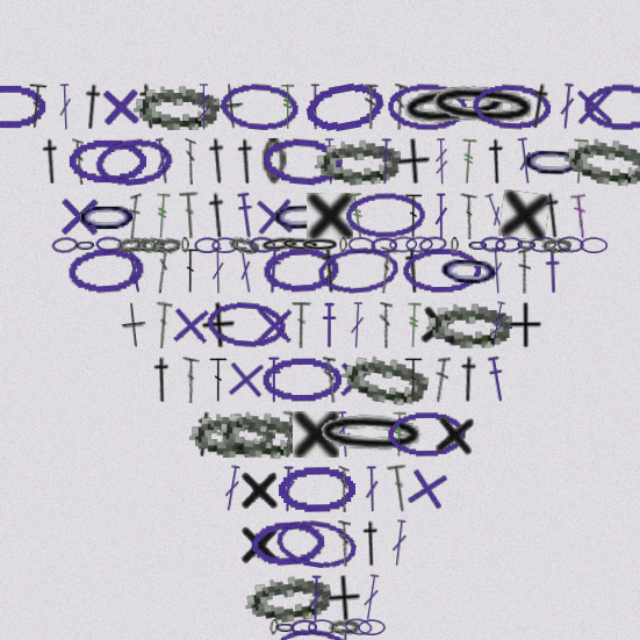chain: (376, 118, 479, 167), (401, 119, 503, 166), (305, 403, 406, 447), (328, 352, 407, 403), (245, 541, 323, 591), (295, 117, 369, 168), (271, 494, 345, 544), (270, 588, 345, 637), (521, 166, 598, 213), (222, 402, 298, 447), (306, 168, 382, 212), (308, 261, 380, 307), (116, 167, 187, 213), (260, 167, 332, 212), (212, 308, 283, 353), (224, 120, 295, 165), (441, 121, 511, 165), (93, 262, 162, 306), (403, 310, 477, 351), (250, 497, 318, 541), (261, 262, 330, 305), (199, 405, 273, 445), (151, 123, 225, 163), (333, 216, 403, 257), (369, 122, 439, 163), (274, 451, 342, 492), (538, 122, 606, 163), (369, 405, 438, 445), (261, 358, 330, 398), (382, 264, 450, 304), (94, 170, 162, 210), (11, 123, 77, 163), (411, 262, 469, 305), (267, 216, 324, 257), (483, 169, 540, 210), (100, 217, 156, 257), (261, 170, 283, 210), (259, 253, 295, 270), (277, 254, 312, 270), (232, 253, 260, 271), (294, 255, 329, 269), (136, 253, 163, 270), (165, 254, 192, 270), (332, 582, 357, 599), (396, 253, 421, 270), (335, 254, 360, 270), (319, 583, 345, 598), (152, 254, 178, 269), (80, 254, 104, 270), (491, 254, 516, 269), (502, 255, 528, 269), (118, 254, 142, 269), (371, 254, 395, 269), (385, 254, 409, 269), (462, 254, 486, 269), (515, 254, 539, 269), (250, 254, 273, 269), (449, 254, 472, 269), (301, 584, 325, 598), (344, 584, 368, 598), (535, 255, 559, 269), (286, 584, 309, 598), (203, 255, 226, 269), (218, 255, 241, 269), (355, 255, 378, 269), (329, 629, 356, 640), (480, 254, 499, 269), (282, 630, 309, 640), (272, 584, 291, 598), (100, 255, 119, 269), (438, 255, 457, 269), (296, 630, 319, 640), (316, 630, 336, 640), (268, 584, 276, 598), (192, 255, 199, 269), (328, 255, 335, 269), (424, 255, 431, 269)
double: (451, 216, 476, 258), (369, 451, 391, 492), (141, 263, 162, 304), (274, 404, 294, 445), (358, 263, 378, 304), (346, 545, 365, 586), (226, 451, 245, 492), (166, 310, 185, 351), (238, 263, 257, 304), (190, 216, 209, 257), (58, 122, 77, 163), (167, 169, 185, 210), (479, 169, 497, 210), (371, 498, 388, 539), (527, 216, 544, 257), (287, 311, 304, 351), (408, 357, 424, 398), (168, 263, 184, 304), (516, 122, 532, 163), (192, 358, 208, 398), (216, 358, 232, 398), (384, 358, 400, 398), (192, 264, 208, 304), (384, 217, 400, 257), (336, 311, 351, 351), (456, 264, 471, 304), (432, 217, 447, 257), (372, 123, 387, 163), (301, 546, 315, 586), (277, 452, 291, 492), (349, 452, 363, 492), (313, 170, 327, 210), (85, 123, 99, 163), (361, 311, 374, 351), (217, 264, 230, 304), (145, 217, 158, 257), (409, 217, 422, 257), (301, 123, 314, 163), (349, 123, 362, 163), (326, 499, 338, 539), (314, 358, 326, 398), (98, 170, 110, 210), (482, 264, 493, 304), (327, 452, 337, 492), (195, 170, 205, 210)
half_double: (485, 121, 515, 164), (198, 404, 226, 446), (102, 122, 129, 164), (499, 216, 525, 257), (151, 122, 177, 163), (427, 357, 452, 398), (211, 216, 236, 257), (211, 169, 236, 210), (308, 263, 332, 304), (380, 264, 404, 304), (68, 170, 92, 210), (236, 170, 260, 210), (344, 499, 367, 539), (164, 358, 187, 398), (452, 170, 475, 210), (453, 357, 474, 398), (237, 216, 258, 257), (323, 592, 341, 633), (263, 264, 280, 304), (504, 264, 520, 304), (360, 170, 376, 210), (264, 358, 279, 398), (312, 311, 327, 351)
noise: (5, 320, 29, 344), (0, 144, 24, 157), (0, 135, 14, 151), (0, 561, 22, 571)
single: (380, 448, 427, 495), (465, 214, 510, 259), (226, 356, 269, 399), (179, 310, 221, 352), (251, 216, 293, 258), (395, 309, 436, 352), (408, 403, 448, 446), (323, 357, 364, 398), (119, 122, 160, 163), (527, 122, 568, 163), (288, 405, 328, 445), (252, 311, 292, 351), (84, 217, 124, 257), (300, 217, 340, 257), (241, 499, 278, 539), (241, 452, 278, 492), (315, 545, 348, 587), (207, 310, 240, 352), (375, 169, 408, 211), (472, 311, 503, 351), (139, 310, 164, 352), (223, 122, 248, 163)
treble: (454, 310, 474, 351), (334, 216, 354, 257), (431, 170, 448, 210), (527, 170, 544, 210), (324, 405, 340, 445), (168, 217, 183, 257), (385, 311, 399, 351), (409, 170, 423, 210), (589, 123, 603, 163), (373, 405, 386, 445), (205, 123, 218, 163), (277, 123, 290, 163)
